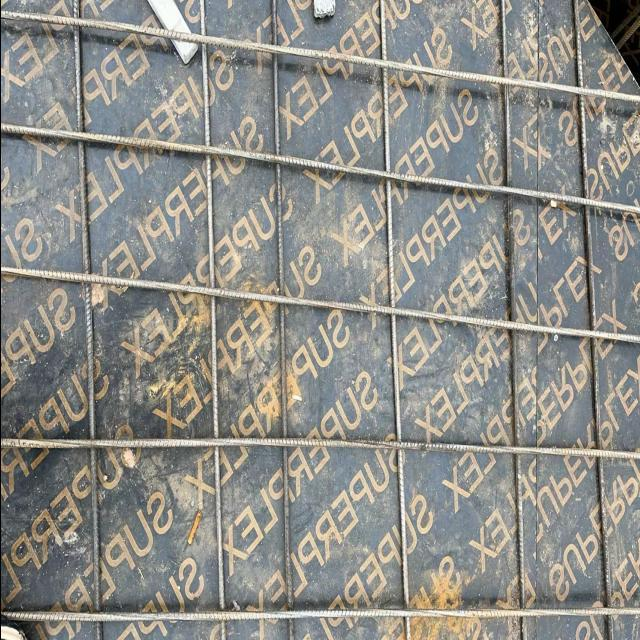ribbed bar: (1, 118, 640, 216), (1, 9, 640, 105), (1, 265, 640, 349), (571, 1, 613, 640), (377, 1, 411, 640), (198, 1, 227, 640), (72, 1, 101, 640), (1, 433, 640, 462), (499, 1, 526, 640), (269, 1, 293, 640), (1, 609, 640, 621)
